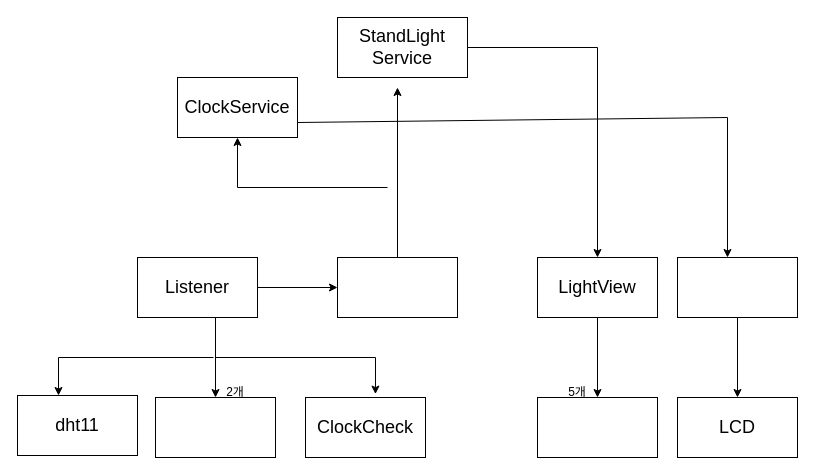
Some shapes in this 815 by 475 pixel diagram are drawn without their labels. Here are the shapes that lost their labels. From the top down, the centre of each, then its label:
At (x=397, y=287): "Controller".
At (x=737, y=287): "ClockView".
At (x=215, y=427): "Button".
At (x=597, y=427): "Led".
